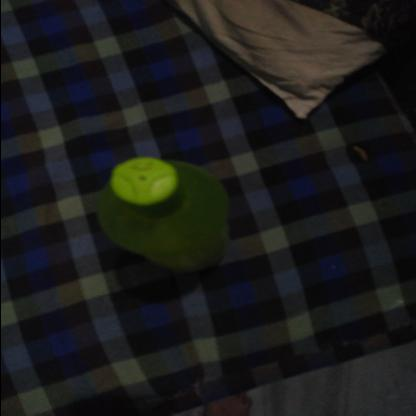bottle: (56, 73, 209, 175)
